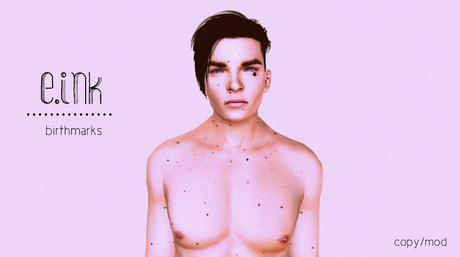mole: (241, 155, 251, 164), (173, 138, 185, 145), (162, 155, 171, 164), (146, 238, 155, 247), (276, 203, 286, 210), (203, 211, 211, 219), (254, 199, 261, 208), (309, 244, 315, 253)
